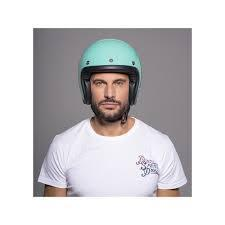helmet: (79, 37, 143, 120)
